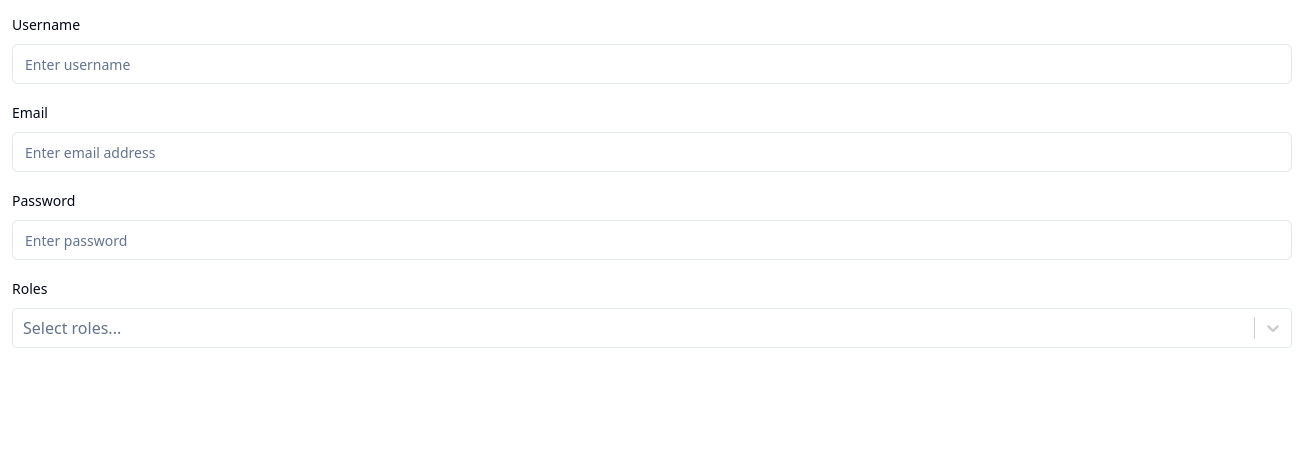
AddUser › shows validation error for short password
Type "12345" into the password field labelled "Password" at (652, 240), box [12,220,1292,260]
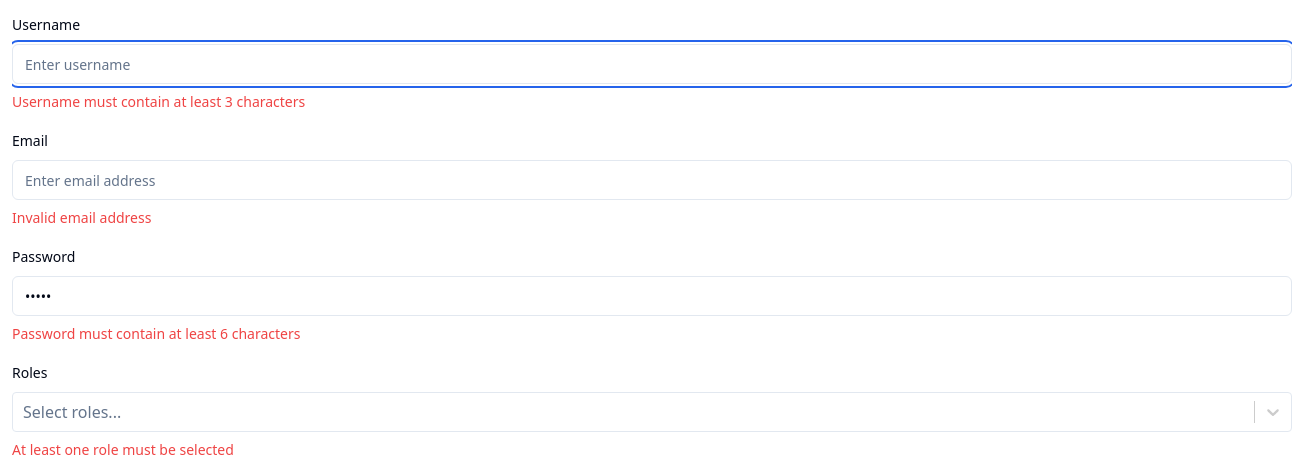
Check: the text "Password must contain at least 6 characters" is shown, box [12,324,300,343]
